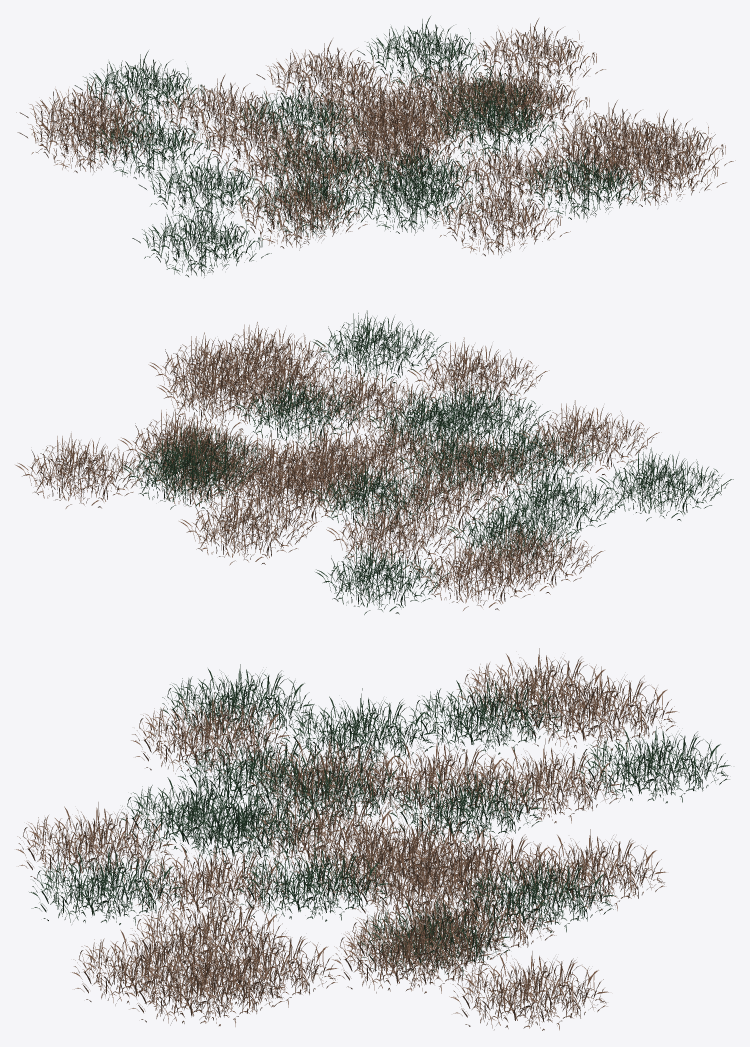
The model's file is Environment_2_Grass.glb.
The picture shows the model from 3 angles, top to bottom: view 1: azimuth 30°, elevation 25°; view 2: azimuth 150°, elevation 25°; view 3: azimuth 270°, elevation 25°; orthographic projection. The views are drawn at different scales.
Visible parts, largest first — view 1: Grass_Basic-dry_A_spring-summer.001; view 2: Grass_Basic-dry_A_spring-summer.001; view 3: Grass_Basic-dry_A_spring-summer.001.
Part boxes in pixels (x1=…): Grass_Basic-dry_A_spring-summer.001: x1=16, y1=16, x2=735, y2=277; Grass_Basic-dry_A_spring-summer.001: x1=15, y1=310, x2=733, y2=614; Grass_Basic-dry_A_spring-summer.001: x1=16, y1=648, x2=730, y2=1030.
Size of the model in its own units: 4.91 by 0.5366 by 4.36.
2 materials, 2 textured.
